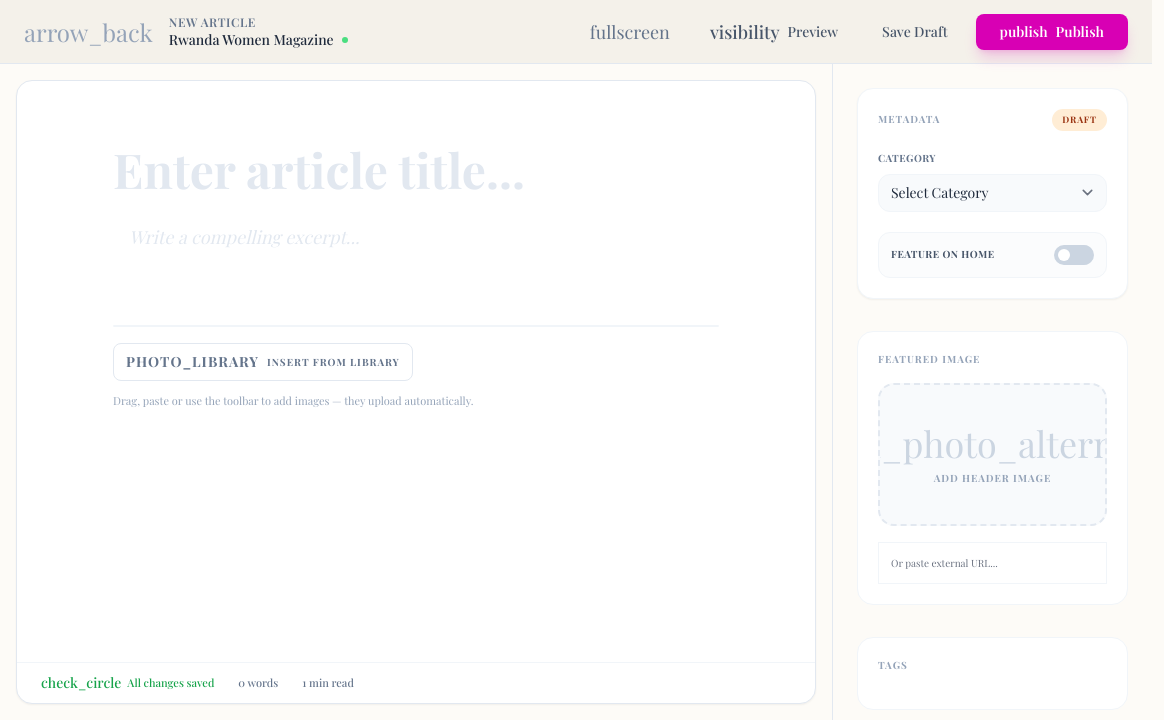
saving › refuses to save without a title and says so without a blocking dialog
Expected: the text box with placeholder "Enter article title..." is shown, 113,145 -> 719,193
Click the button "Save Draft" at (915, 32), box 866,14 -> 964,50
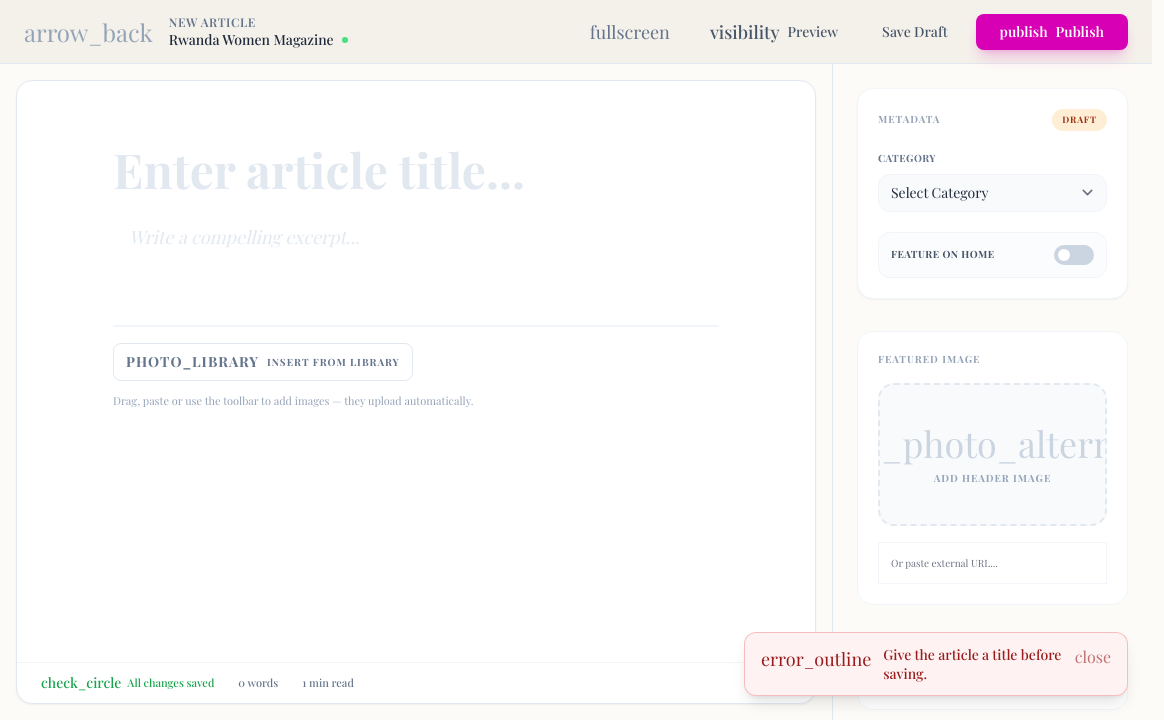
Expected: the text "Give the article a title before saving." is shown, 883,644 -> 1063,683
